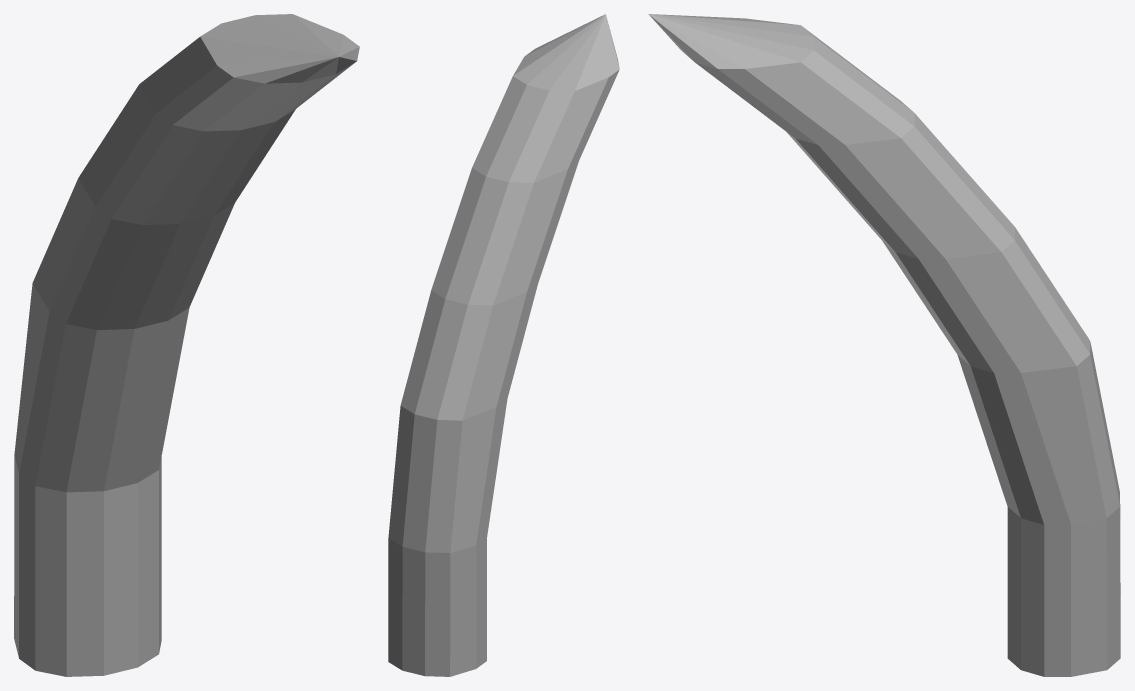
The model's file is Bone_Déco.fbx.
3 views of the same model, side by side, from view 1: azimuth 30°, elevation 25°; view 2: azimuth 150°, elevation 25°; view 3: azimuth 270°, elevation 25° (orthographic). The views are drawn at different scales.
Visible parts, largest first — view 1: cylinder_1; view 2: cylinder_1; view 3: cylinder_1.
Boxes of the visible parts, bbox=[...] form: cylinder_1: bbox=[14, 14, 359, 676]; cylinder_1: bbox=[388, 14, 619, 676]; cylinder_1: bbox=[648, 14, 1120, 676].
Size of the model in its own units: 17.5 by 102 by 68.84.
2 materials, 2 textured.
